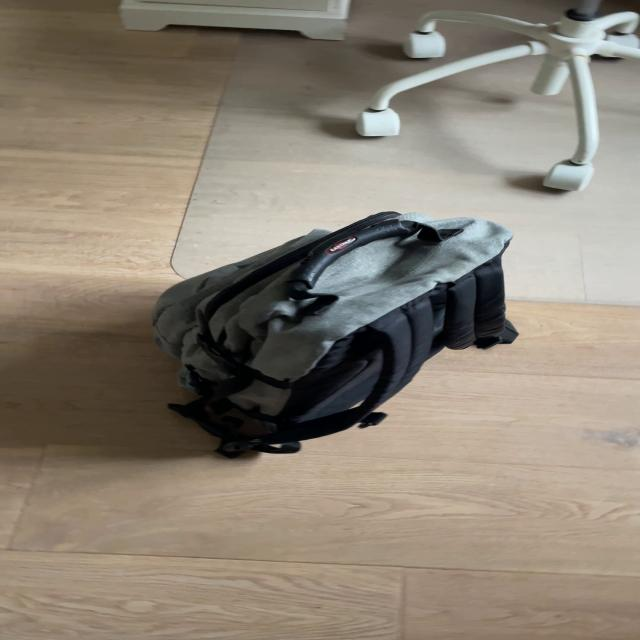backpack: (136, 200, 534, 459)
